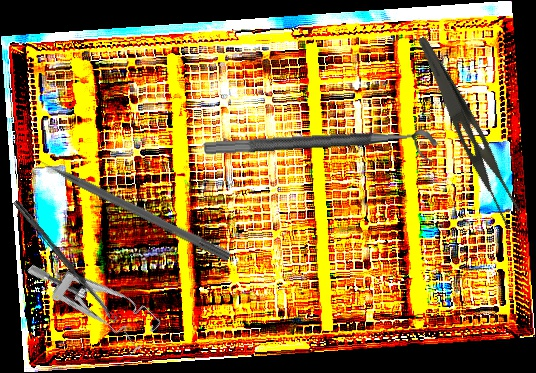Dressing Forceps: (397, 34, 534, 232)
Fixation Ring: (203, 127, 440, 176)
Pusher: (26, 148, 233, 263)
Speculum: (25, 229, 164, 367)
Surgical Spoon: (12, 199, 118, 324)
